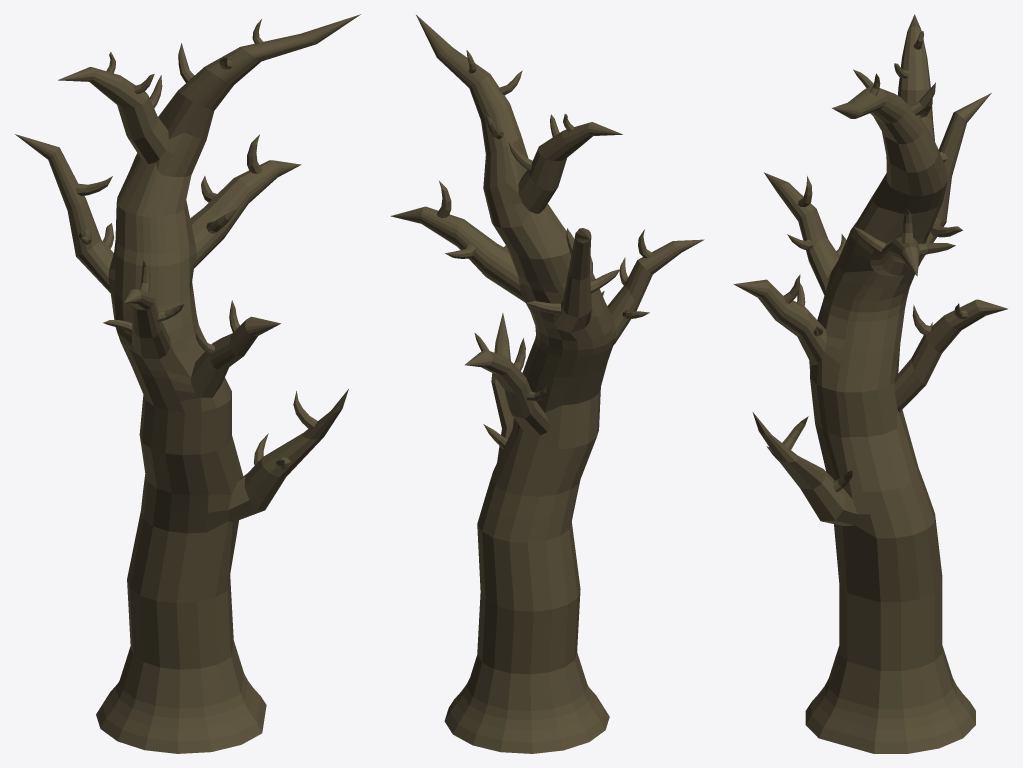
File: FallenSkiesFillerAssetsTree.fbx
The picture shows the model from 3 angles, left to right: view 1: azimuth 30°, elevation 25°; view 2: azimuth 150°, elevation 25°; view 3: azimuth 270°, elevation 25°; orthographic projection. The views are drawn at different scales.
Parts seen in each view (by area): view 1: dead tree; view 2: dead tree; view 3: dead tree.
Part boxes in pixels (x1,y1,x2,y2): dead tree: [15, 14, 360, 753]; dead tree: [390, 15, 704, 753]; dead tree: [733, 14, 1007, 753].
Bounding box in the file's own units: 159 × 384 × 141.
